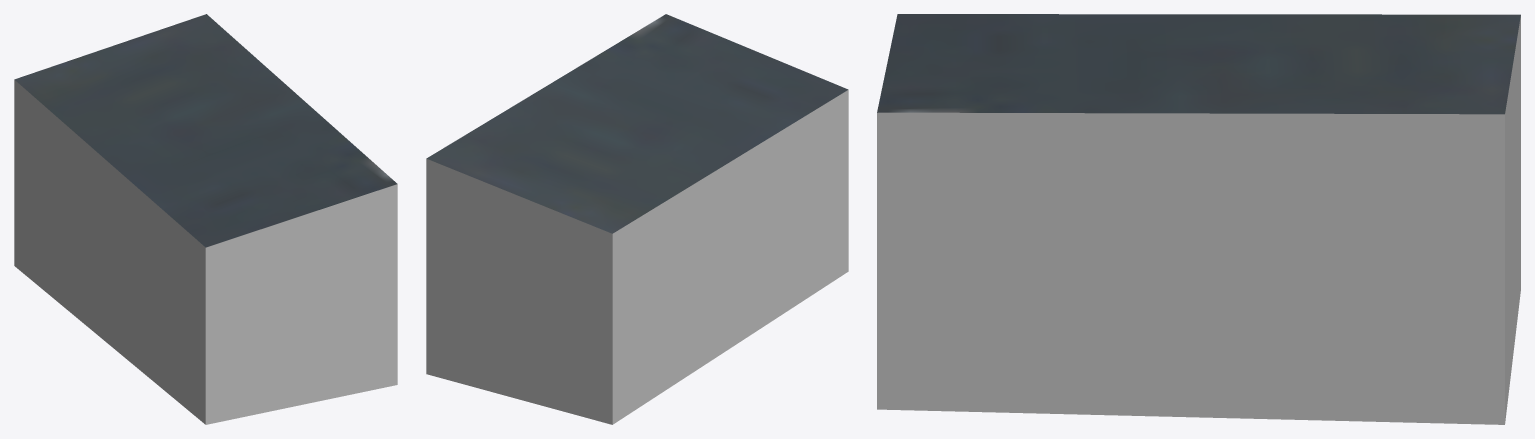
The model's file is DEBW_0010007Tx7Y.gltf.
The picture shows the model from 3 angles, left to right: view 1: azimuth 30°, elevation 25°; view 2: azimuth 150°, elevation 25°; view 3: azimuth 270°, elevation 25°; orthographic projection. The views are drawn at different scales.
Visible parts, largest first — view 1: Z_UP; view 2: Z_UP; view 3: Z_UP.
Part boxes in pixels (x1,y1,x2,y2): Z_UP: (14, 14, 397, 424); Z_UP: (426, 14, 848, 424); Z_UP: (877, 14, 1520, 424).
Size of the model in its own units: 3.09 by 3.01 by 5.65.
2 materials, 1 textured.
